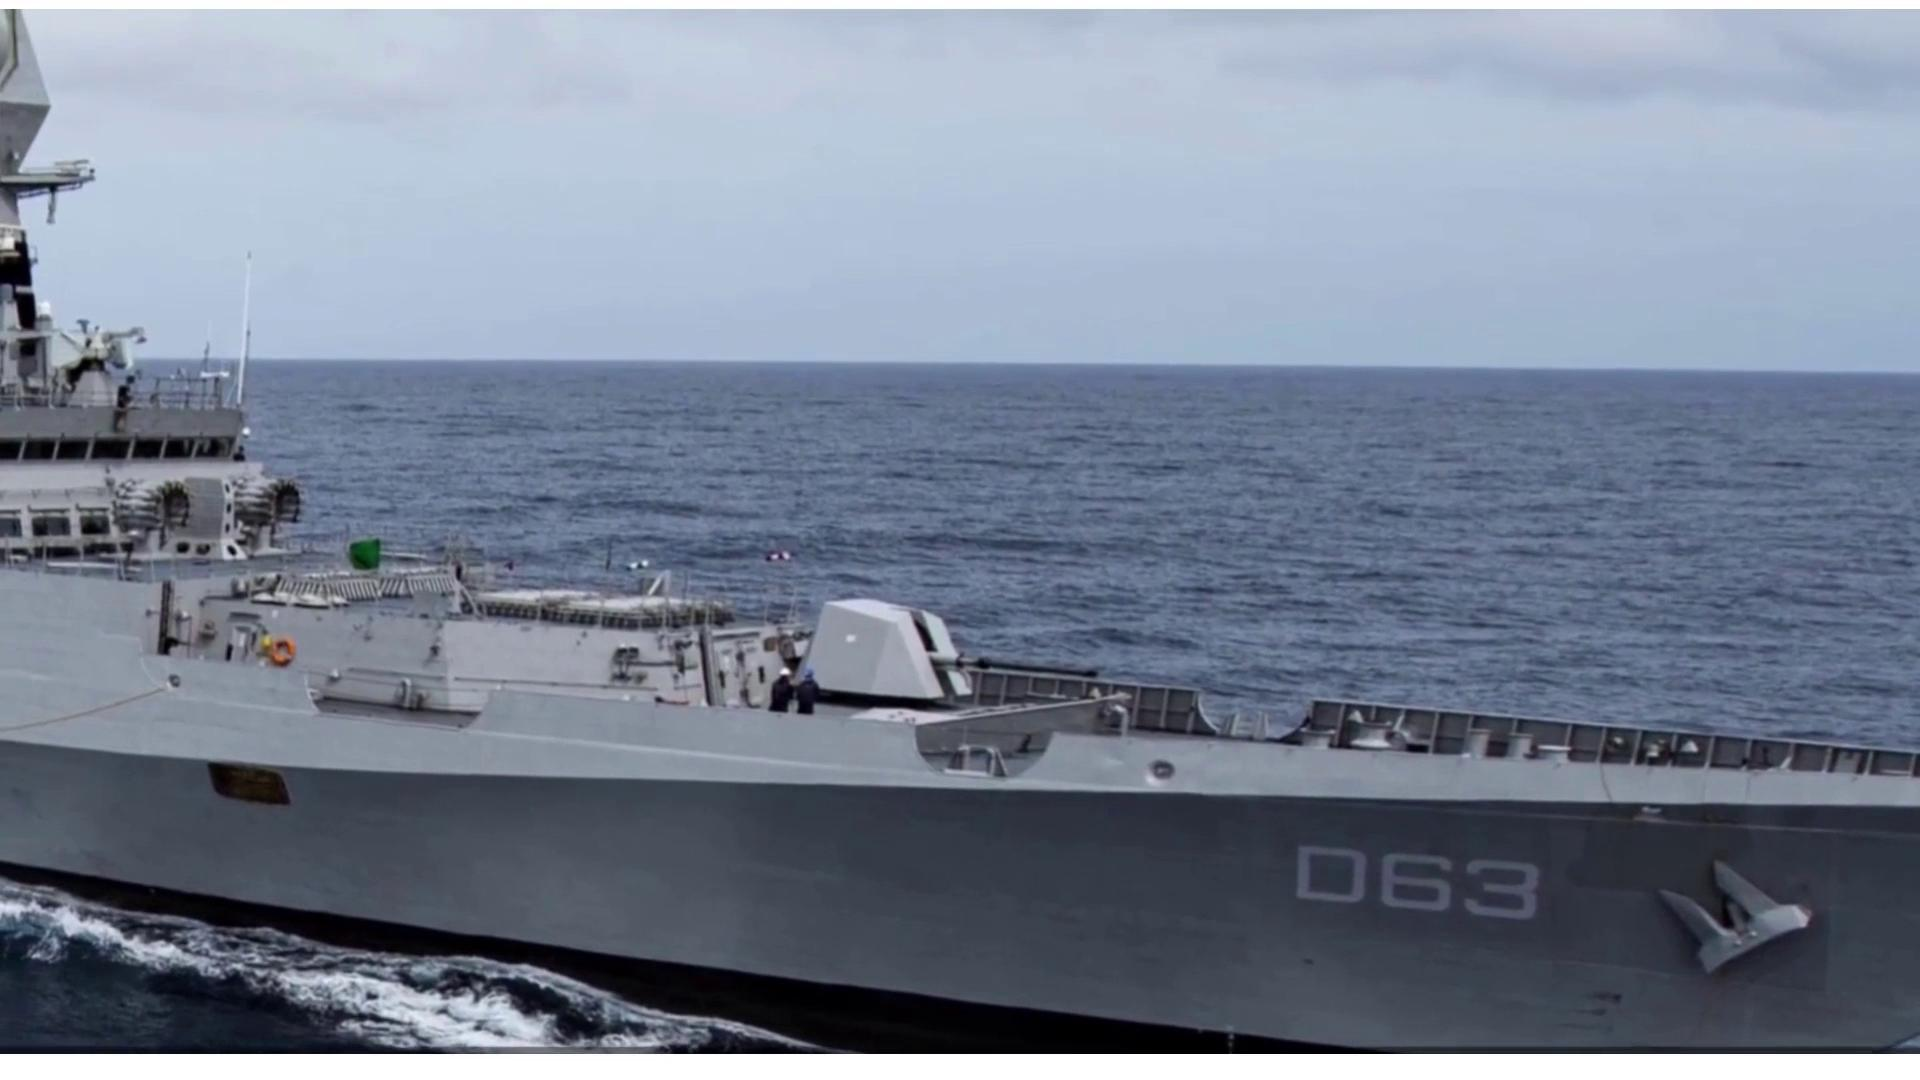OCR: (1282, 837, 1553, 948)
